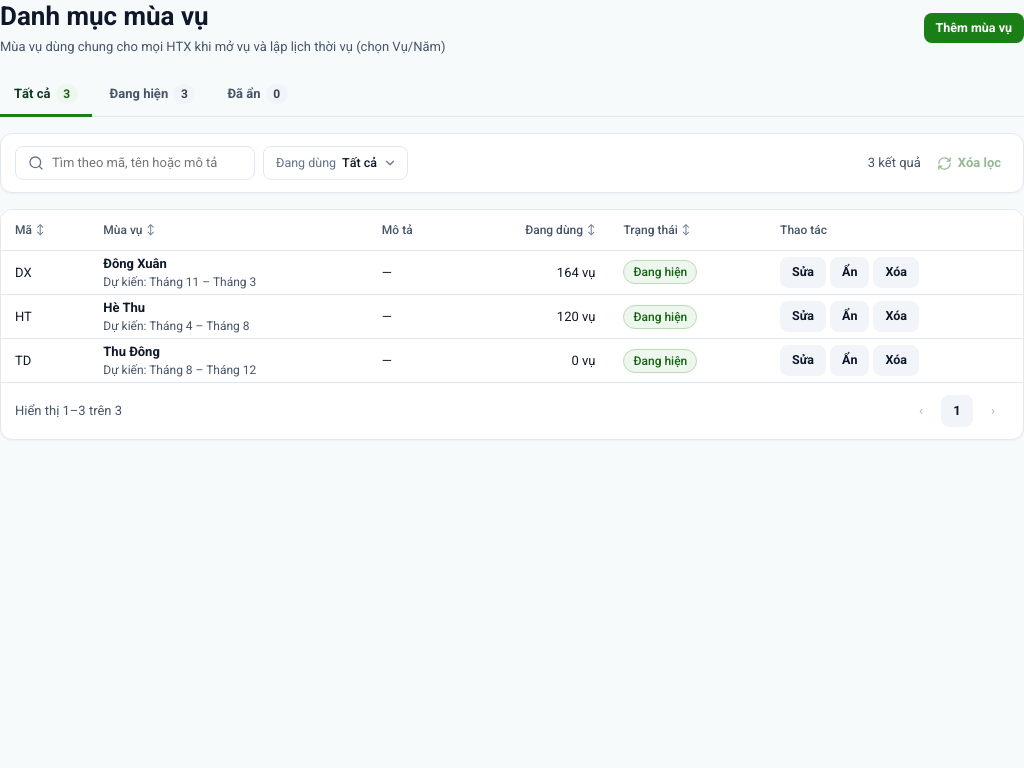
Màn Danh mục mùa vụ (AH-7) › AC3: đổi tên mùa vụ đang được vụ dùng → bảng và danh sách chọn hiện tên mới; mã và vụ đã tạo không đổi
Click the button with aria-label "Sửa Đông Xuân". click: x=803, y=272
box: [780,257,826,288]
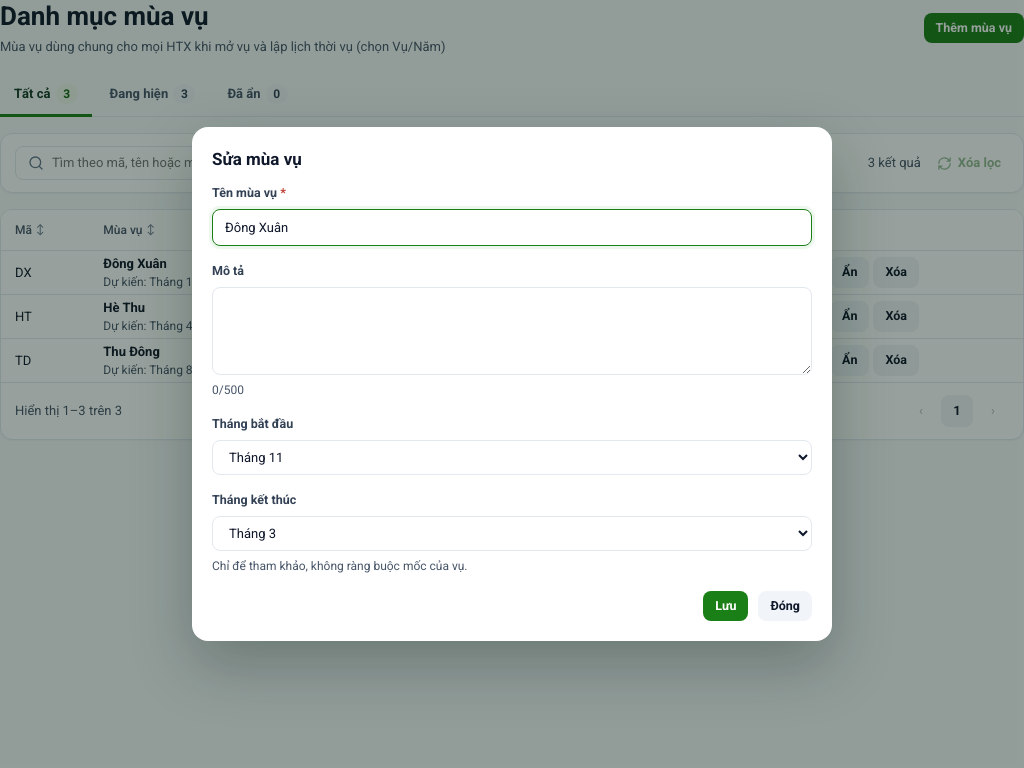
Replace the text in the field labelled "Tên mùa vụ *" with "Đông Xuân đổi tên". click: x=512, y=228
box: [212,209,812,246]
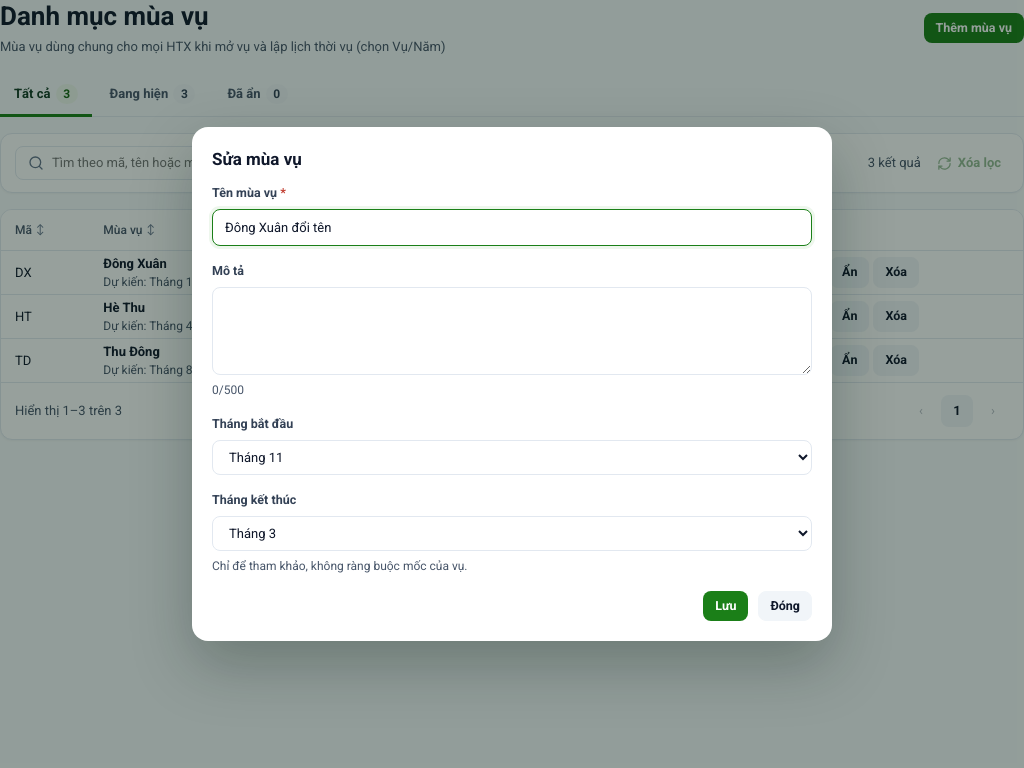
Click the button "Lưu". click: x=726, y=606
box: [703,591,748,621]
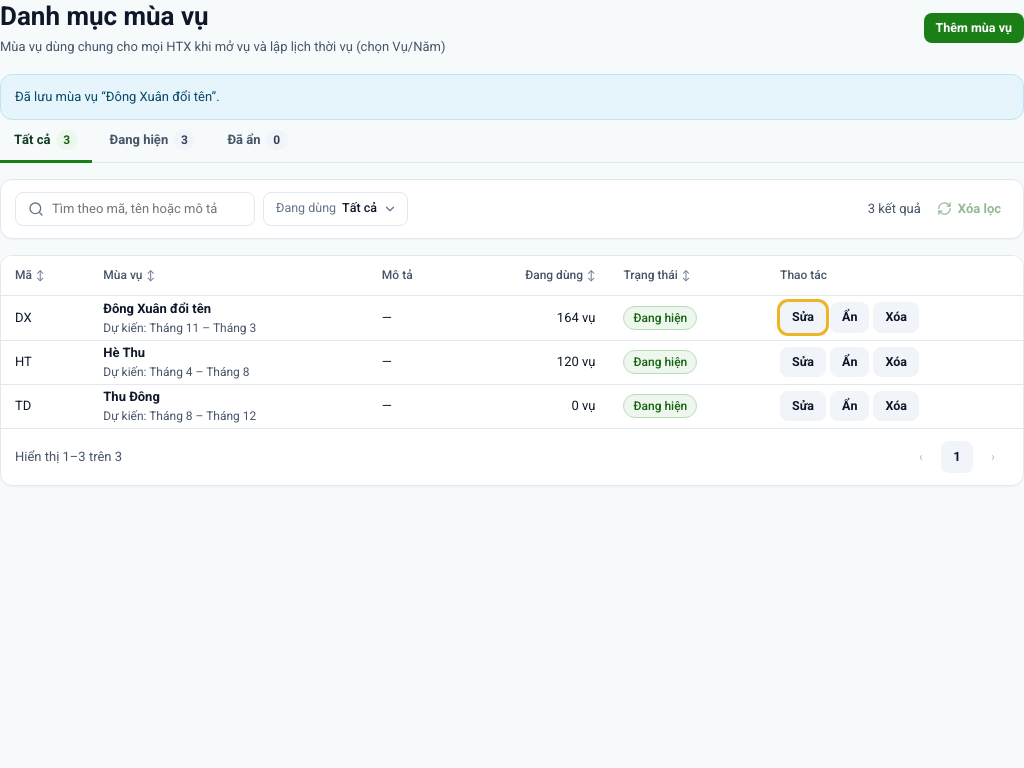
Now the button "Đông Xuân đổi tên" is shown, box [103,299,211,318]
